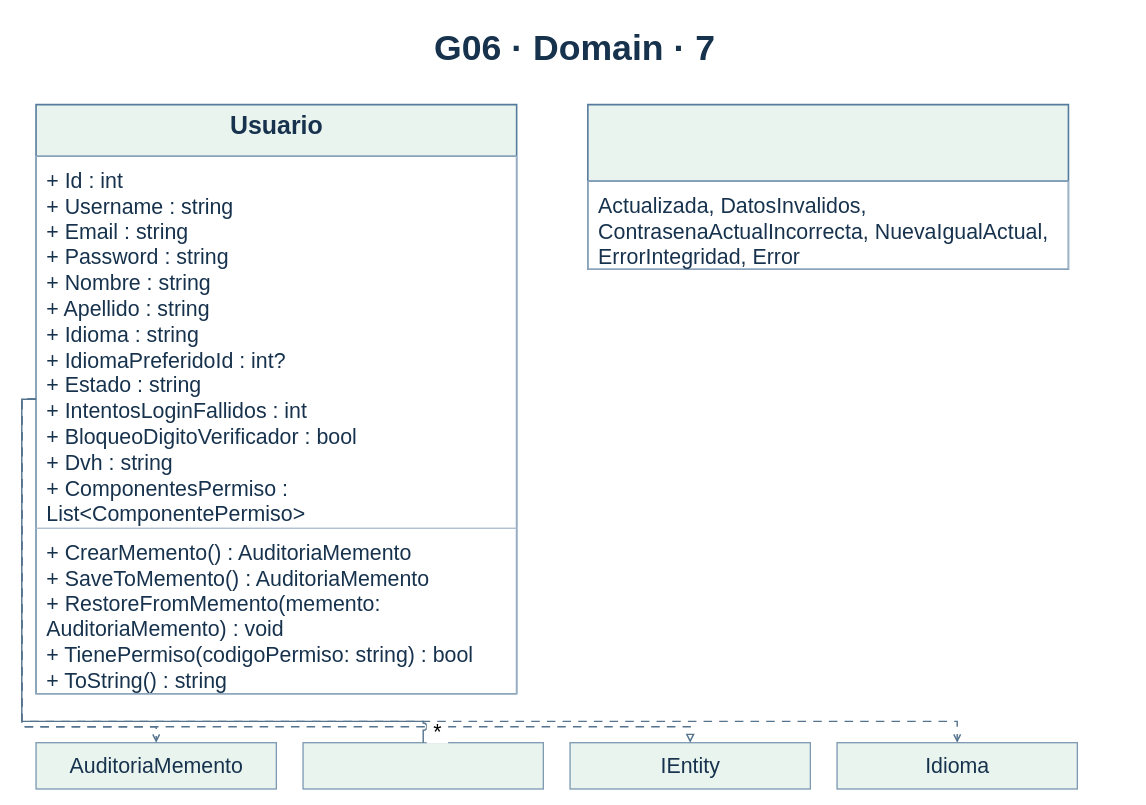
Image size: 1146x805. Some labels were removed from this diagram. Each missing label, with the box of its shape:
ComponentePermiso: (302, 742, 544, 789)
«enumeration» ResultadoCambioContrasena: (587, 103, 1069, 270)
